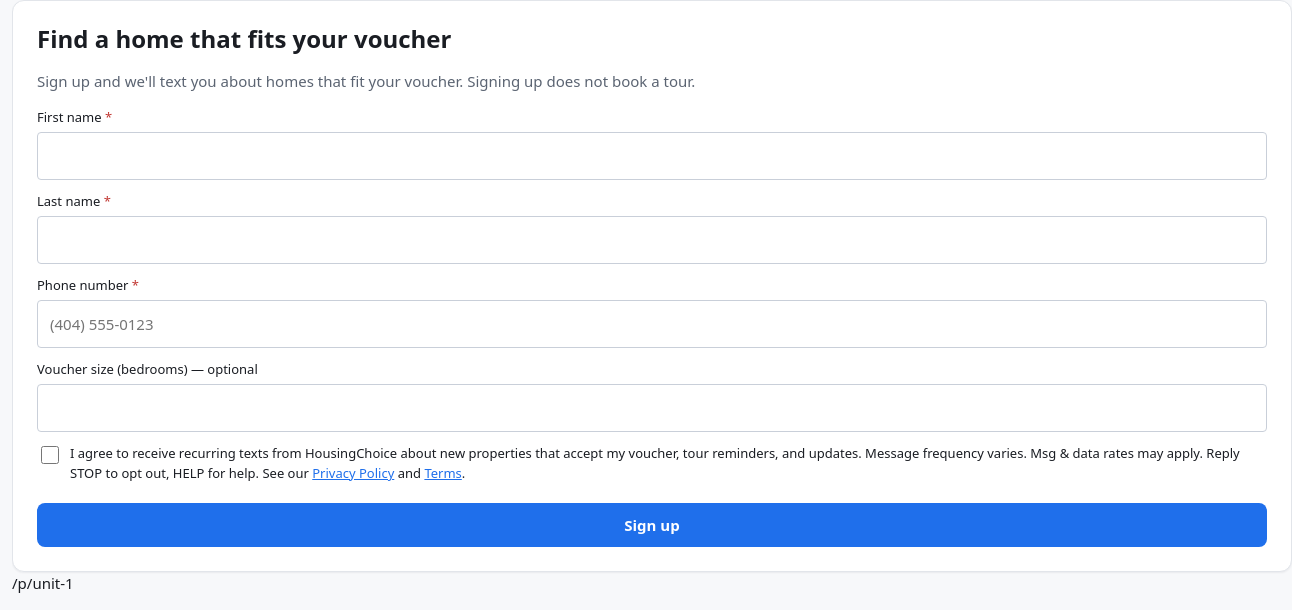
Test case: FlyerPage - the fallback (permanent-flyer-links D4) › the sign-up sends the route unitId, then a focused thank-you; the h1 stays
The image size is (1292, 610).
Expected: the heading "Find a home that fits your voucher" is shown, [37,22,452,55]
In the field labelled "First name *": (652, 156) [37,132,1267,180], type "Ada"
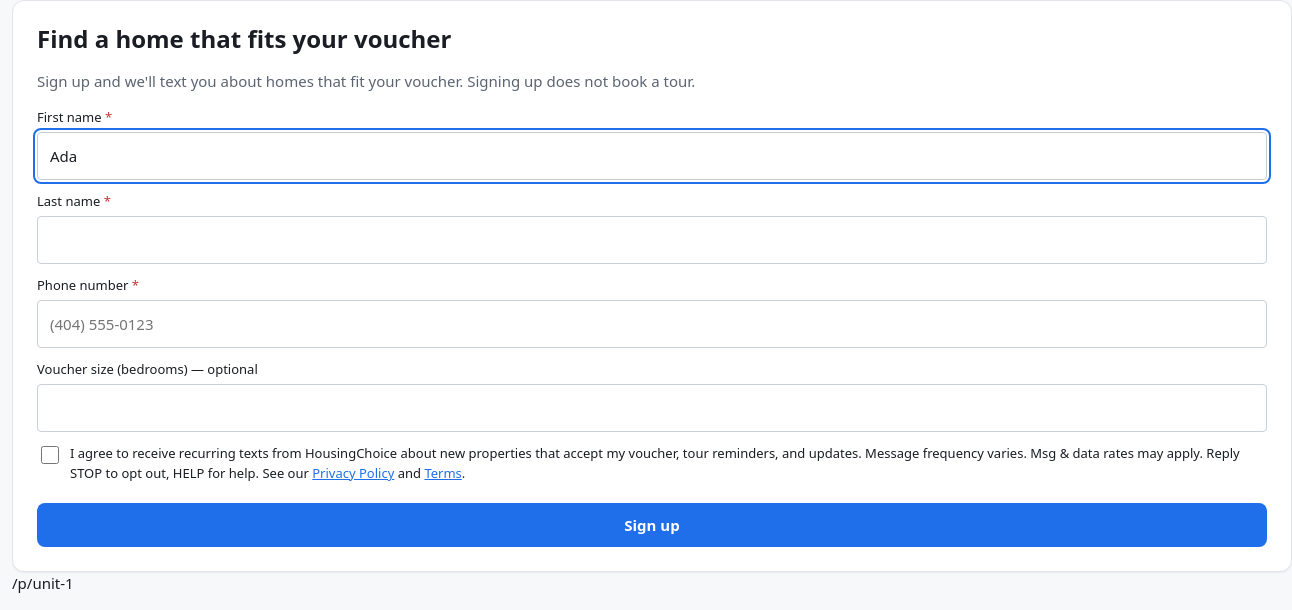
In the field labelled "Last name *": (652, 240) [37,216,1267,264], type "Lovelace"
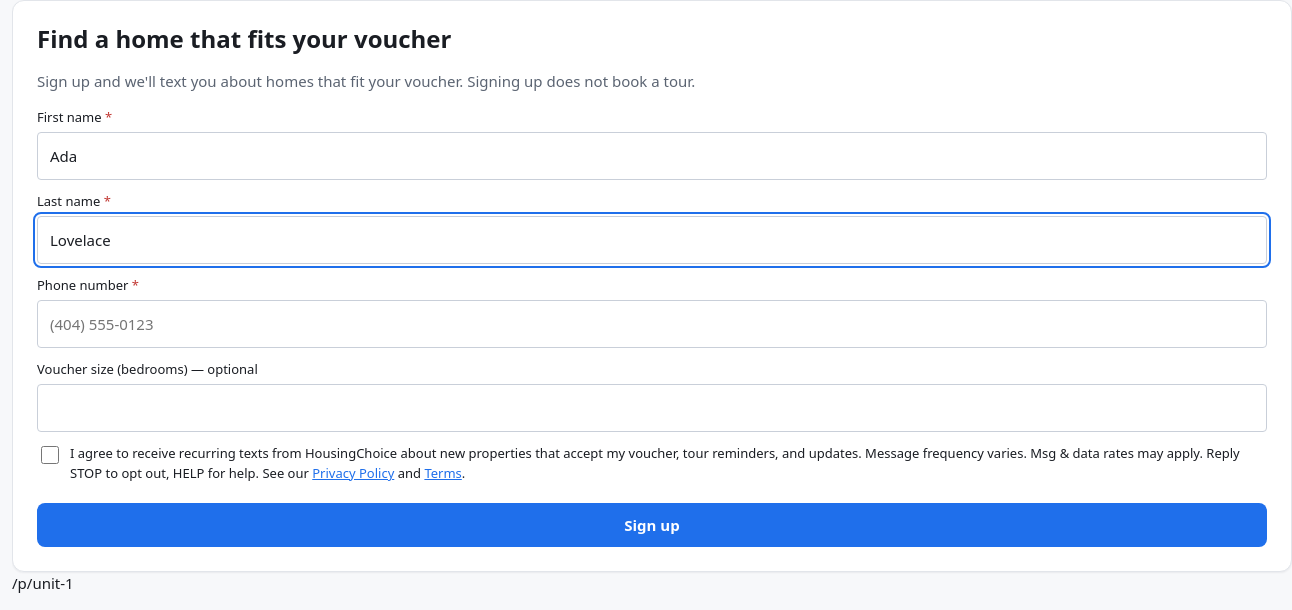
In the field labelled "Phone number *": (652, 324) [37,300,1267,348], type "4045551234"
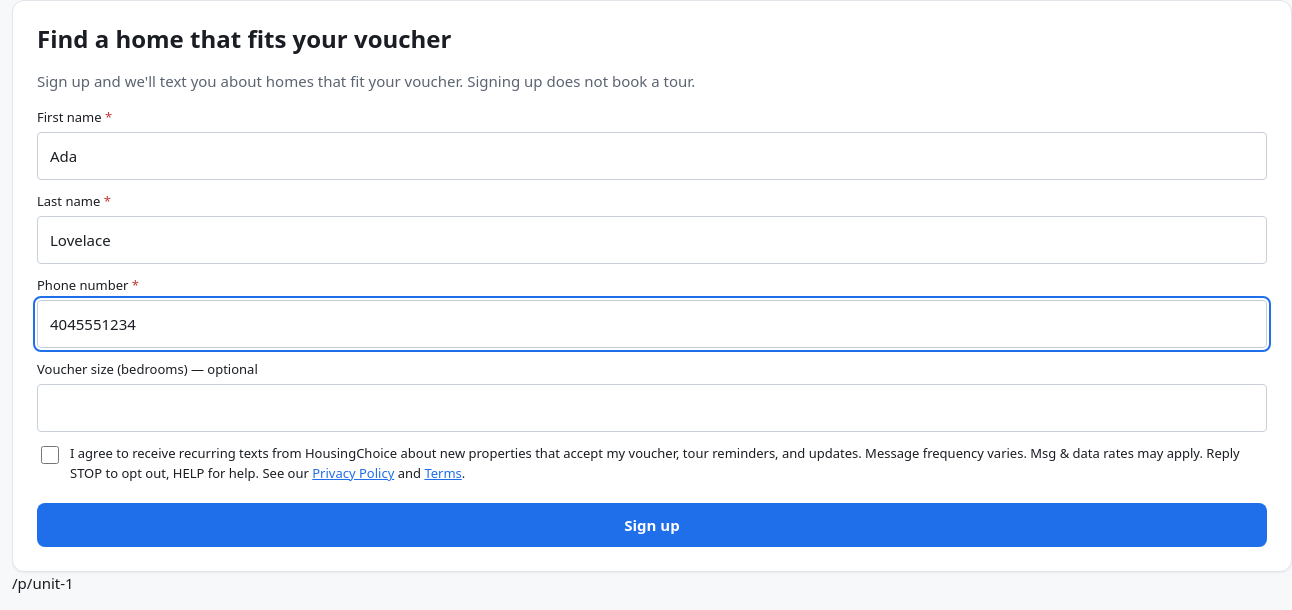
Click the checkbox labelled "I agree to receive": (50, 455) [41,446,59,464]
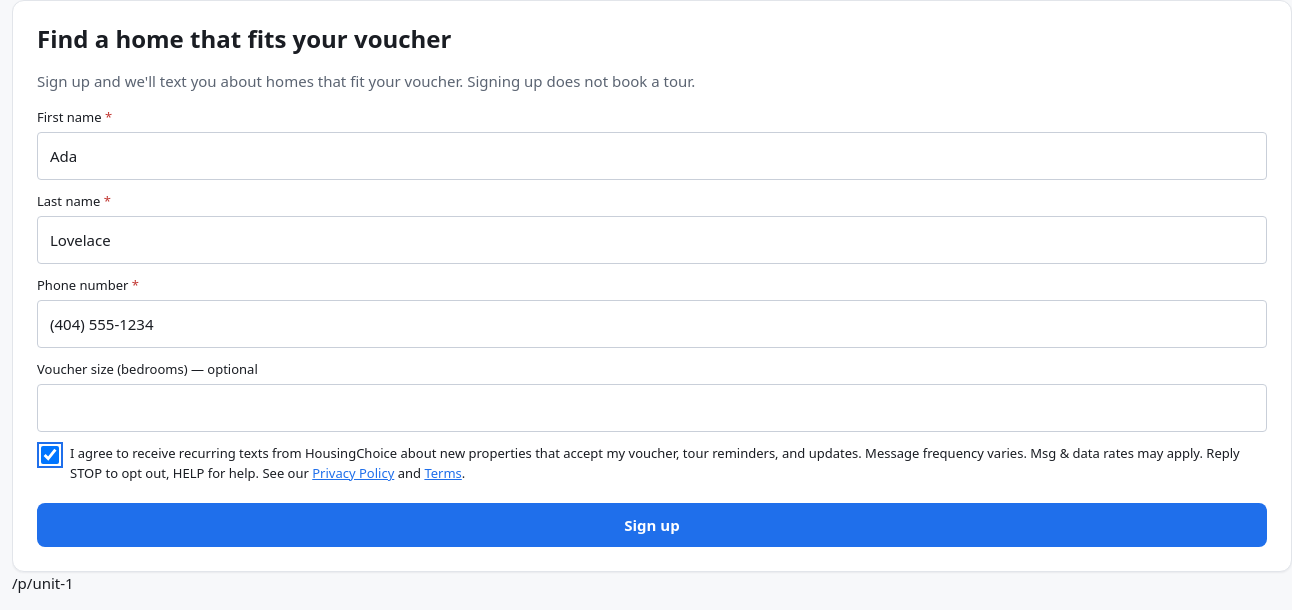
Click the button "Sign up": (652, 525) [37,503,1267,547]
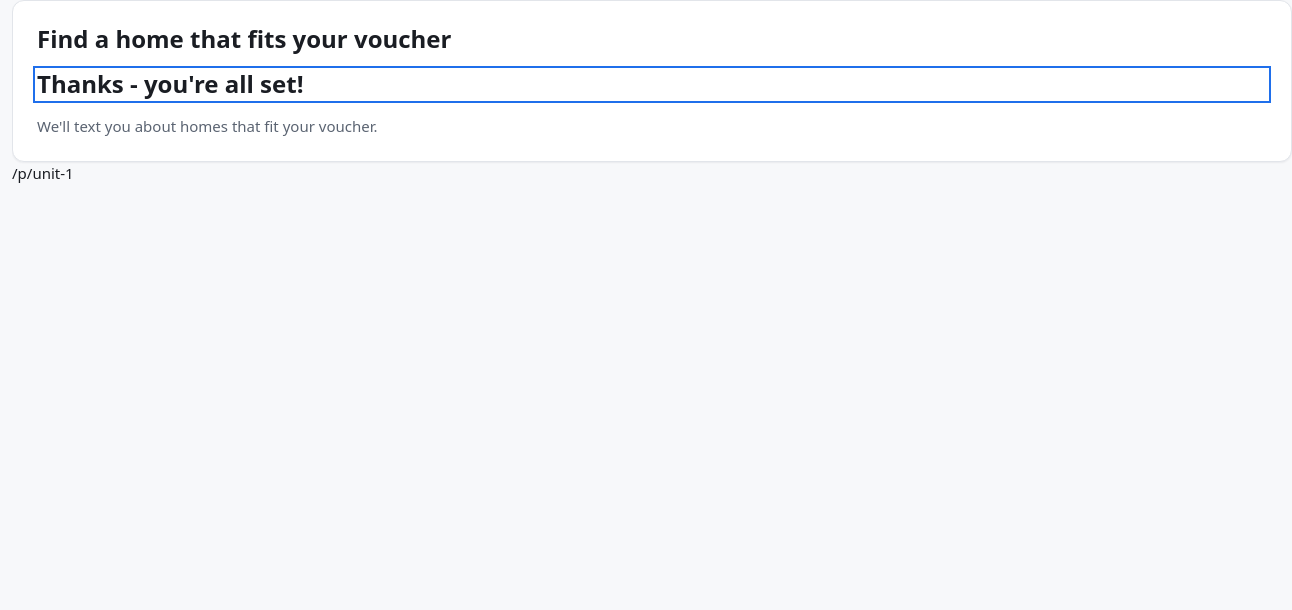
Now the heading "Thanks - you're all set!" is shown, box [37,67,304,100]
Now the label labelled "First name" is gone
Now the text "Sign up and we'll text you about homes that fit your voucher. Signing up does not book a tour." is gone
